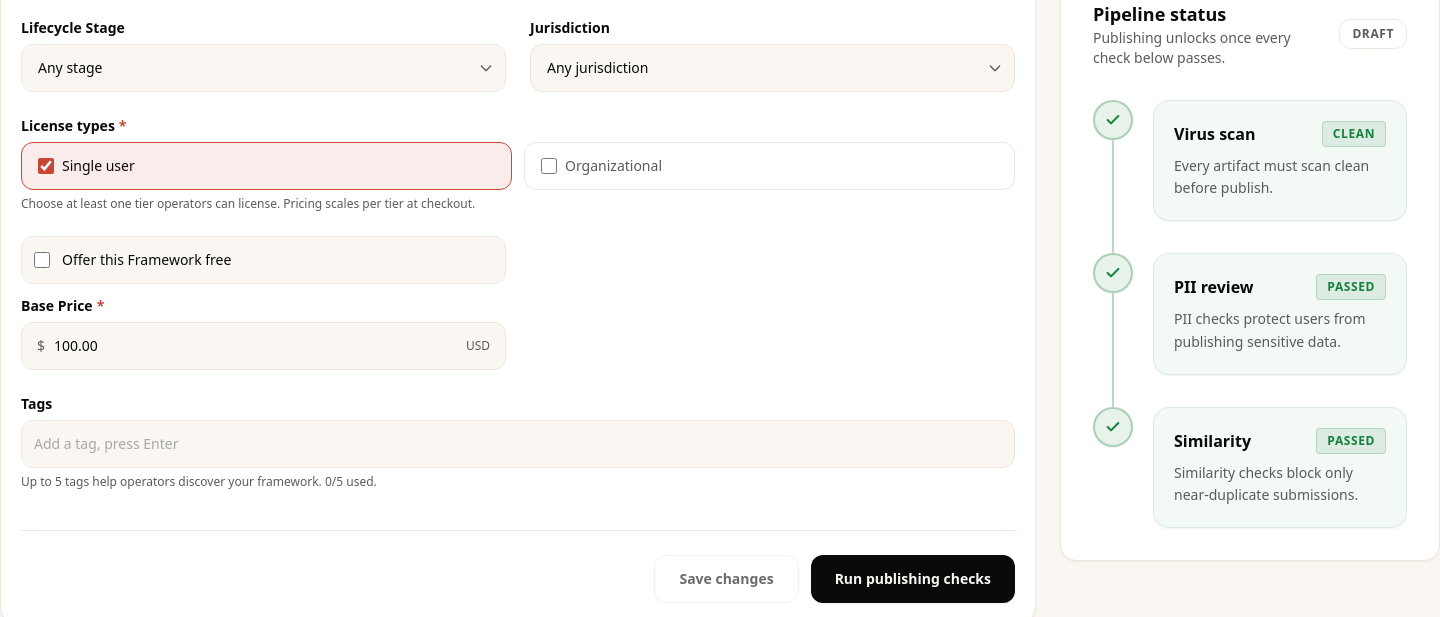
Test: FrameworkEditor › reports a short failure when checks come back failed
(page scrolled)
Click the button "Run publishing checks" at (913, 578), box [811,554,1015,602]
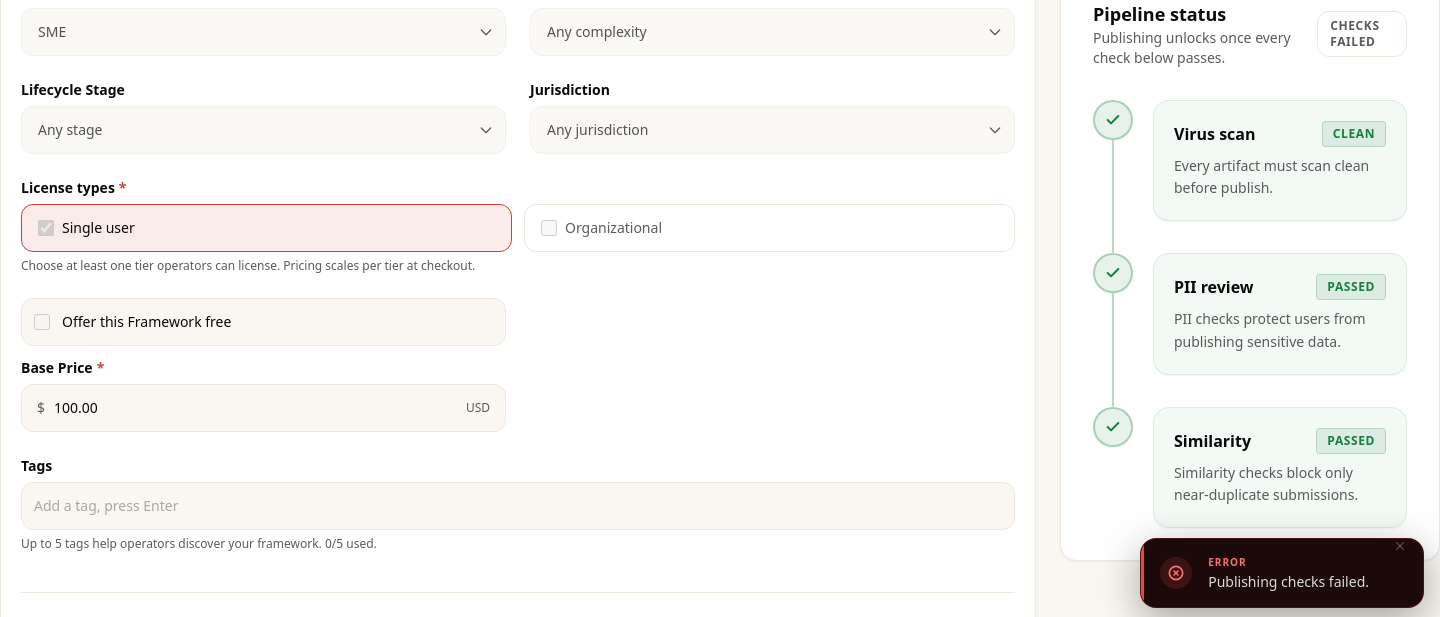
Result: the text "Publishing checks failed." is shown at [1208,572,1369,591]
